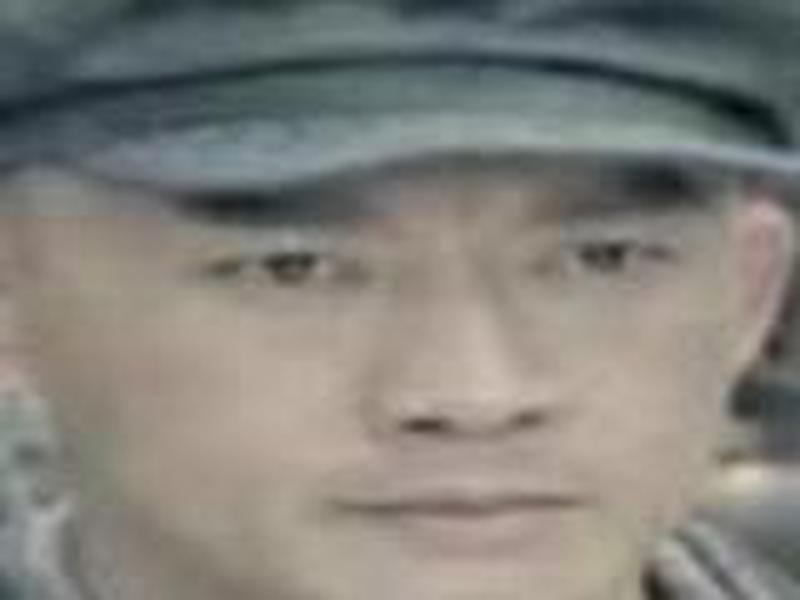without_mask: (25, 134, 731, 600)
